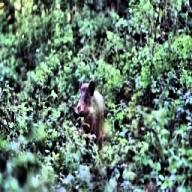boar: (72, 78, 106, 152)
